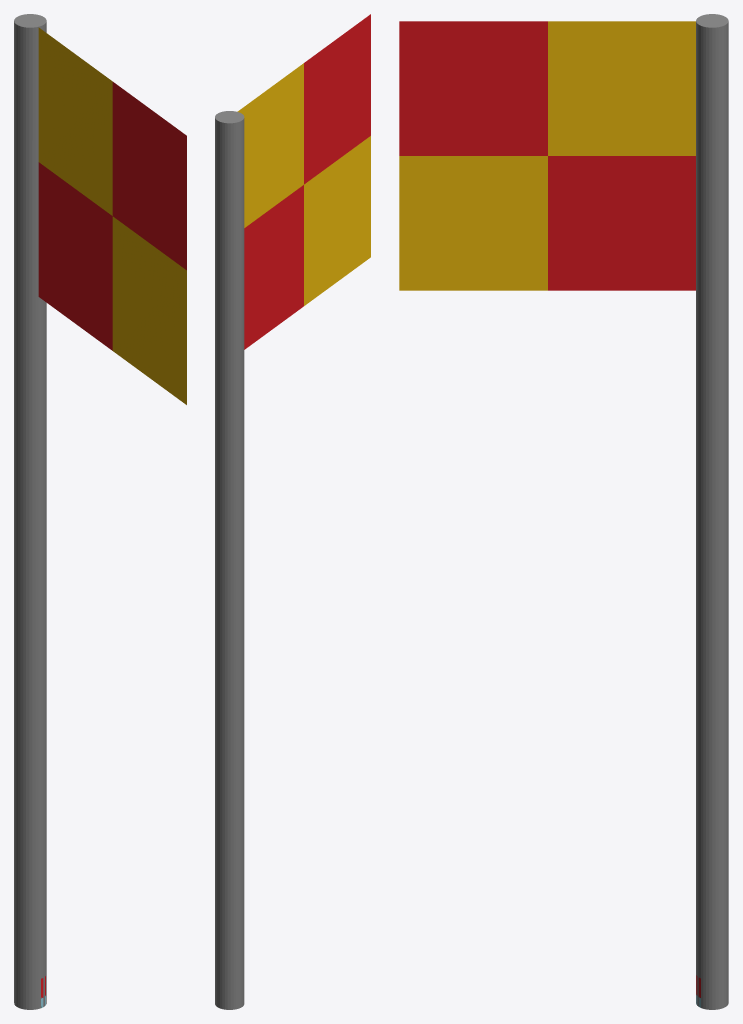
Rendered from BANDERIN.fbx.
The picture shows the model from 3 angles, left to right: view 1: azimuth 30°, elevation 25°; view 2: azimuth 150°, elevation 25°; view 3: azimuth 270°, elevation 25°; orthographic projection. The views are drawn at different scales.
Parts seen in each view (by area): view 1: Plane, Cylinder; view 2: Plane, Cylinder; view 3: Plane, Cylinder.
Part boxes in pixels (x1,y1,x2,y2): Plane: (38,27,186,404); Cylinder: (14,14,46,1009); Plane: (237,14,370,349); Cylinder: (215,111,244,1009); Plane: (399,21,695,290); Cylinder: (696,14,728,1009).
Bounding box in the file's own units: 4.45 × 148 × 45.01.
2 materials, 2 textured.
